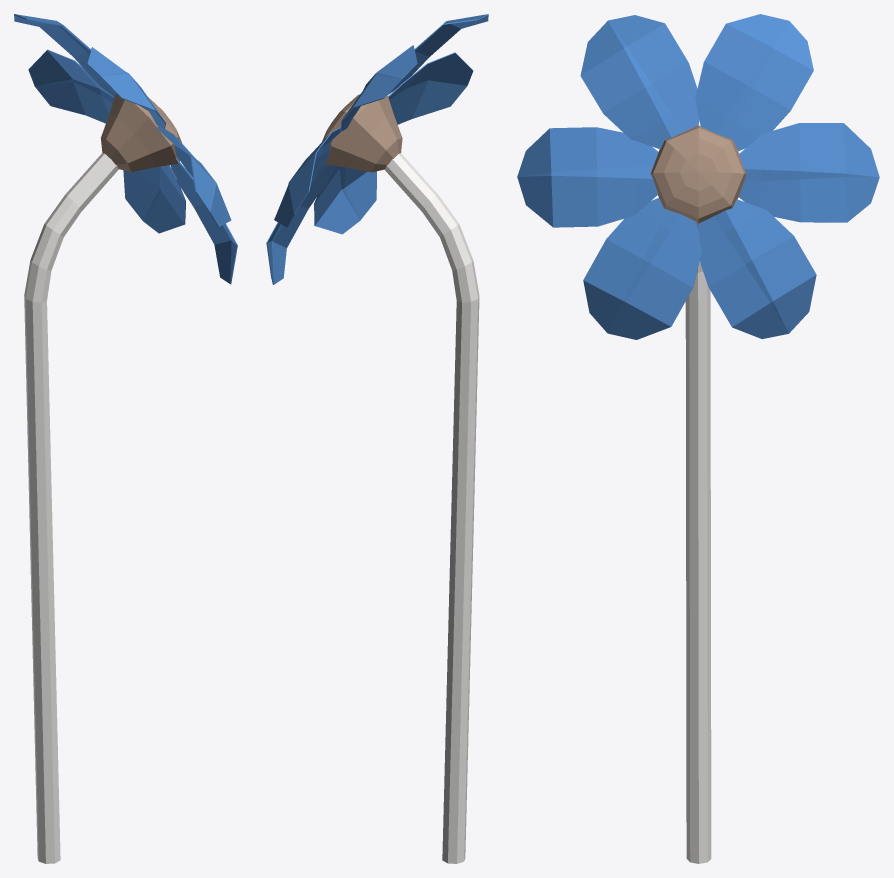
The model's file is Living_Room_flower3.fbx.
3 renders of one model, left to right at view 1: azimuth 30°, elevation 25°; view 2: azimuth 150°, elevation 25°; view 3: azimuth 270°, elevation 25°, orthographic. The views are drawn at different scales.
Visible parts, largest first — view 1: Living_Room_flower3; view 2: Living_Room_flower3; view 3: Living_Room_flower3.
Boxes of the visible parts, <box> form: Living_Room_flower3: <box>14,14,237,863</box>; Living_Room_flower3: <box>266,14,488,863</box>; Living_Room_flower3: <box>517,14,879,863</box>.
Size of the model in its own units: 12.02 by 53.08 by 20.54.
